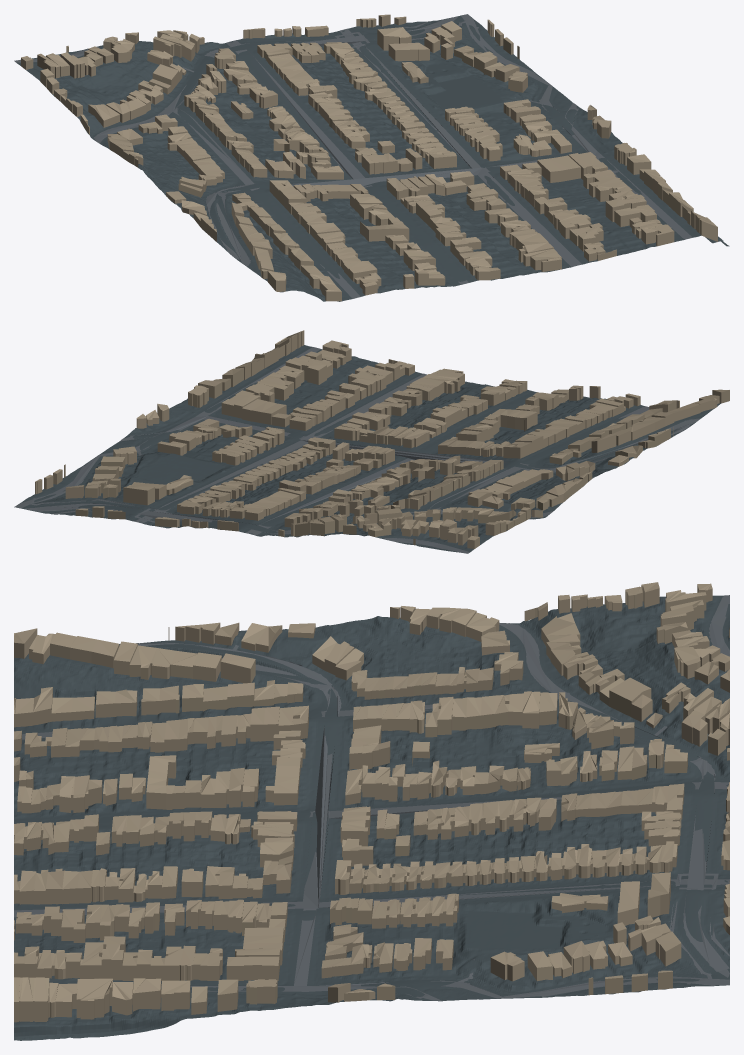
Rendered from epsg26910-1424-10881.lod0.glb.
3 renders of one model, top to bottom at view 1: azimuth 30°, elevation 25°; view 2: azimuth 150°, elevation 25°; view 3: azimuth 270°, elevation 25°, orthographic. The views are drawn at different scales.
Visible parts, largest first — view 1: epsg26910-1424-10881-lod0; view 2: epsg26910-1424-10881-lod0; view 3: epsg26910-1424-10881-lod0.
Part boxes in pixels (x1,y1,x2,y2): epsg26910-1424-10881-lod0: (14,14,729,301); epsg26910-1424-10881-lod0: (14,330,729,553); epsg26910-1424-10881-lod0: (14,582,729,1040).
Bounding box in the file's own units: 384 × 92.43 × 384.
